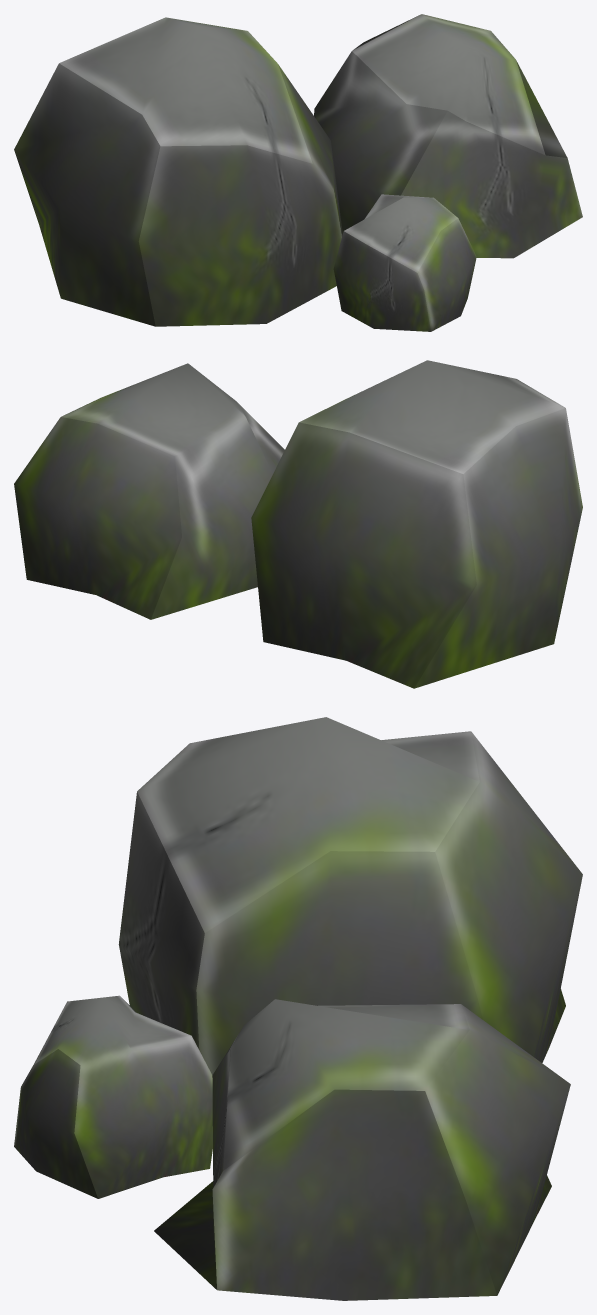
File: rock_0.fbx
3 views of the same model, one above another, from view 1: azimuth 30°, elevation 25°; view 2: azimuth 150°, elevation 25°; view 3: azimuth 270°, elevation 25° (orthographic). The views are drawn at different scales.
Visible parts, largest first — view 1: rock_0; view 2: rock_0; view 3: rock_0.
Part boxes in pixels (x1,y1,x2,y2): rock_0: (14,14,582,331); rock_0: (14,360,582,688); rock_0: (14,717,582,1300).
Size of the model in its own units: 0.9029 by 0.4406 by 0.6382.
Materials: 1 (1 with a texture image).
